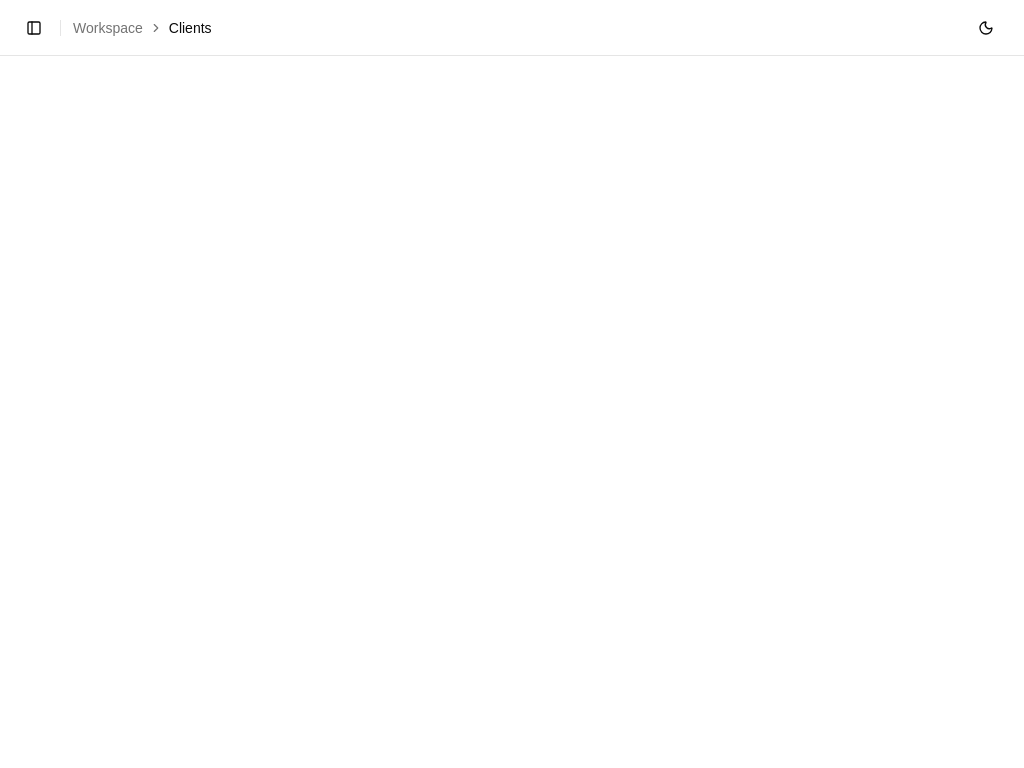
Test: sidebar-07 workspace › opens mobile navigation and closes it after following a route
Click the button named "Toggle navigation" at [34, 28], box x1=20 y1=14 x2=48 y2=42
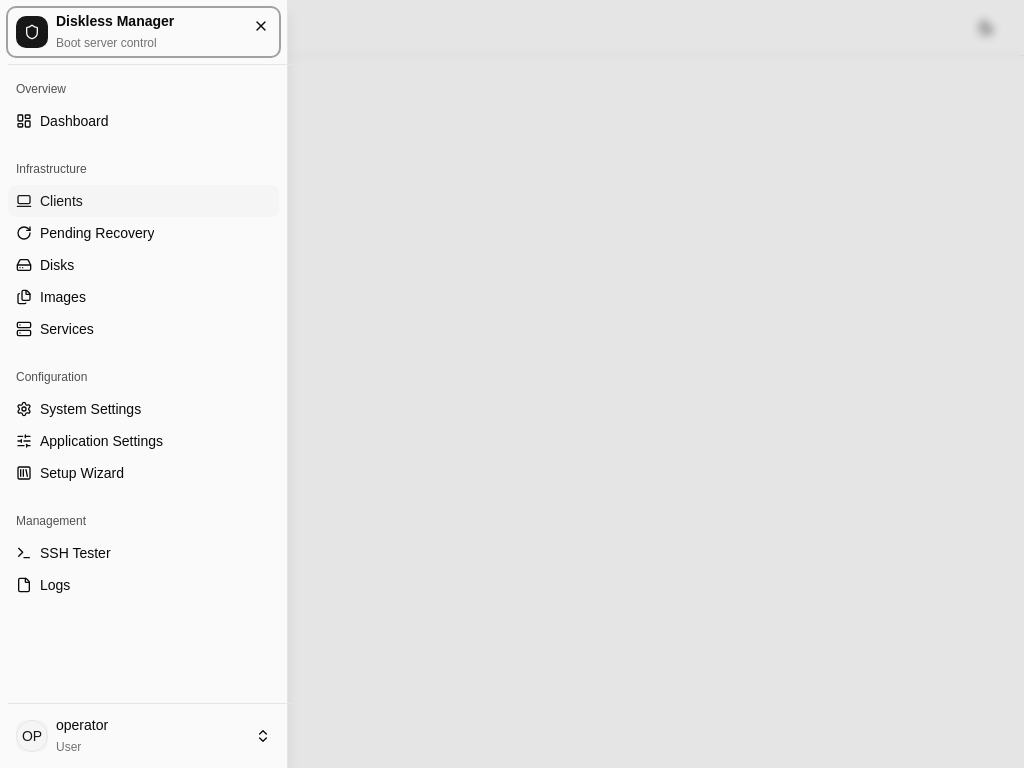
Click the link "Disks" at [45, 265], box x1=16 y1=257 x2=74 y2=273
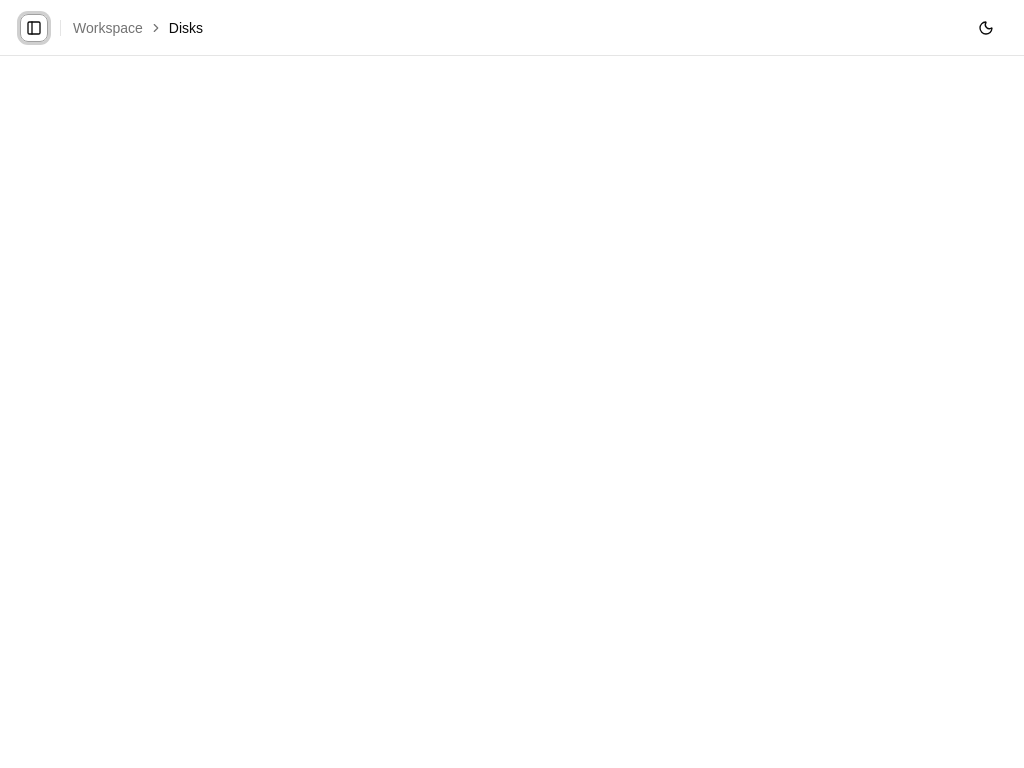
Expected: the dialog is gone
